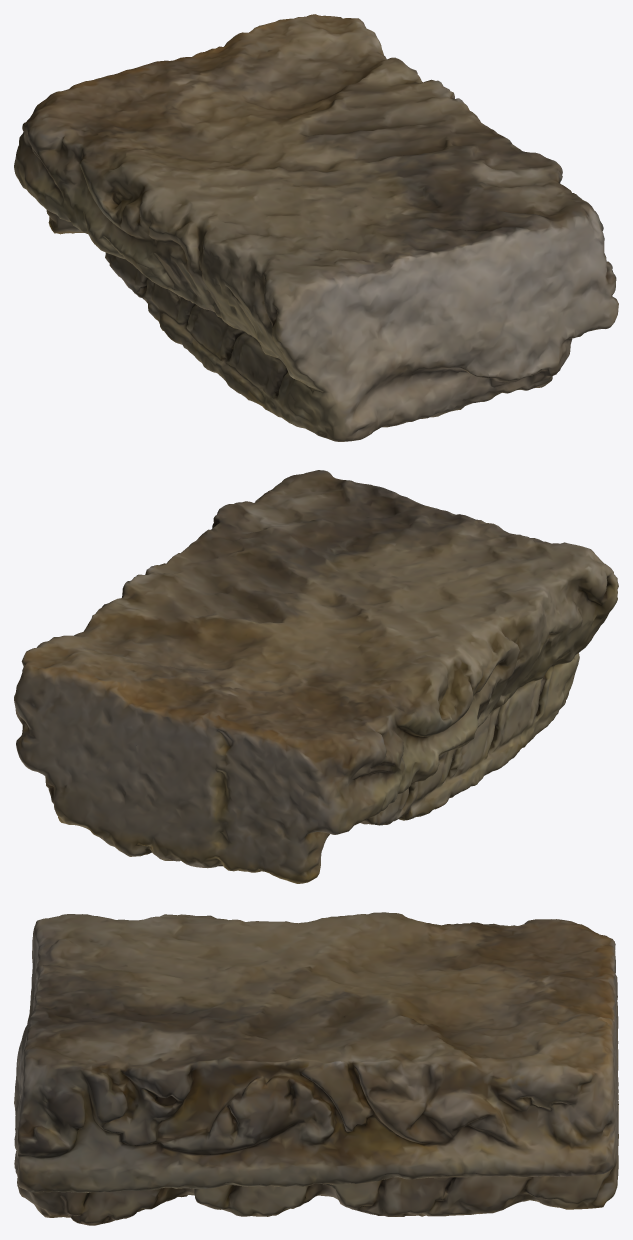
The model's file is Pilastre_QuadricEdgeDecimationX2+preserve.obj.
3 renders of one model, top to bottom at view 1: azimuth 30°, elevation 25°; view 2: azimuth 150°, elevation 25°; view 3: azimuth 270°, elevation 25°, orthographic. The views are drawn at different scales.
Bounding box in the file's own units: 7.26 × 3.73 × 10.38.
